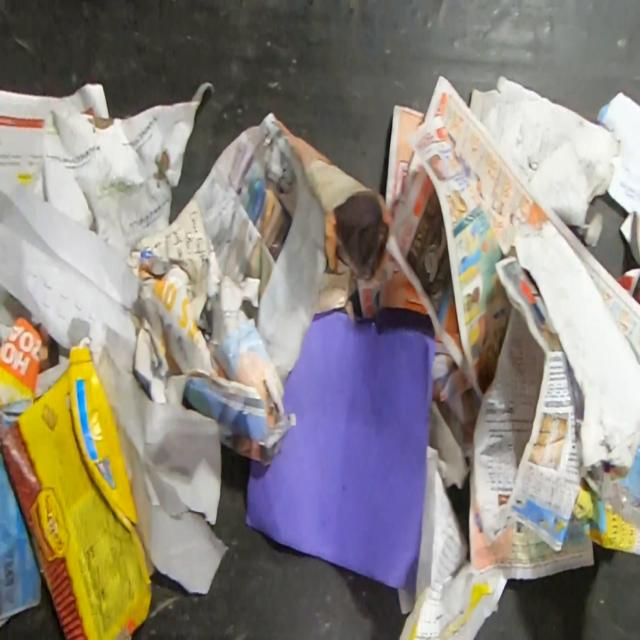cardboard: (0, 343, 154, 640), (510, 215, 640, 476)
